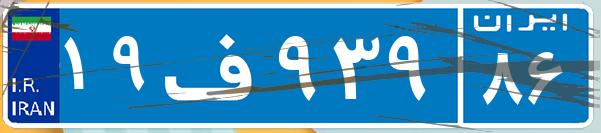1: (57, 26, 110, 107)
3: (330, 28, 385, 110)
6: (525, 38, 570, 115)
8: (475, 38, 525, 113)
9: (385, 28, 445, 110), (273, 28, 330, 110), (110, 28, 158, 105)
ف: (158, 15, 273, 115)
